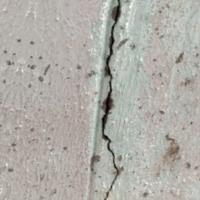crack: (75, 0, 149, 199)
